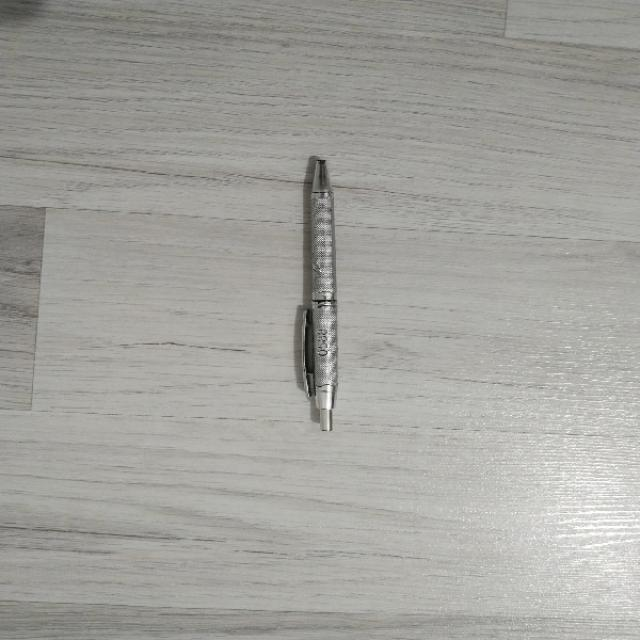signature pen: (302, 159, 338, 430)
